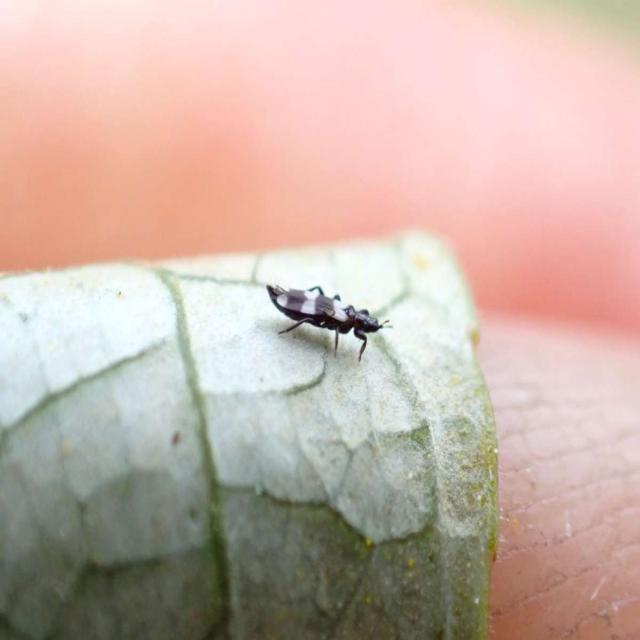Thrip-Adult-: (257, 272, 390, 366)
